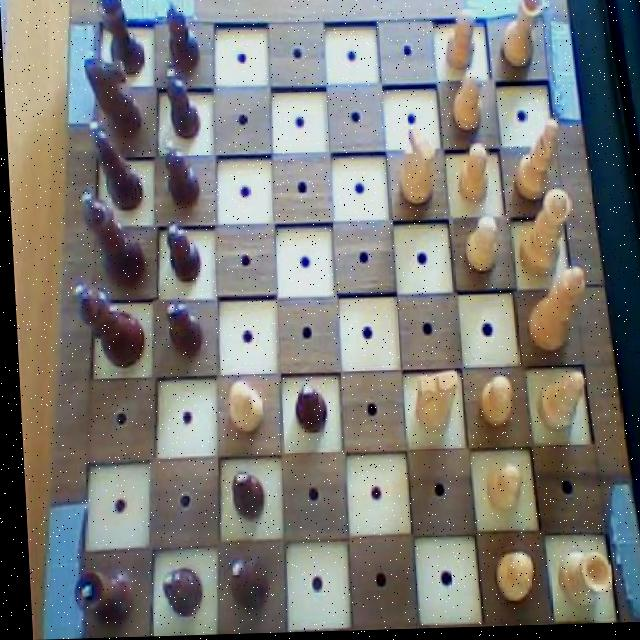bishop: (85, 112, 146, 217), (215, 554, 267, 619)
black-bishop: (67, 283, 145, 376)
black-king: (79, 46, 145, 140)
black-knight: (157, 0, 206, 72), (157, 137, 202, 213), (161, 63, 203, 143), (157, 299, 204, 364), (159, 217, 200, 287), (221, 466, 267, 528), (151, 564, 199, 621), (288, 379, 326, 440)
black-pawn: (77, 185, 147, 292)
black-queen: (63, 564, 133, 627), (94, 0, 146, 81)
black-rook: (509, 117, 567, 207), (529, 373, 587, 443)
white-bishop: (521, 263, 591, 359)
white-king: (401, 365, 458, 443), (392, 122, 437, 215)
white-knight: (449, 142, 493, 212), (439, 7, 480, 81), (483, 551, 531, 611), (220, 377, 264, 441), (445, 71, 485, 136), (470, 375, 512, 436), (478, 464, 521, 523), (460, 215, 499, 280)
white-pawn: (513, 190, 578, 284)
white-queen: (547, 545, 610, 614), (494, 0, 548, 76)
